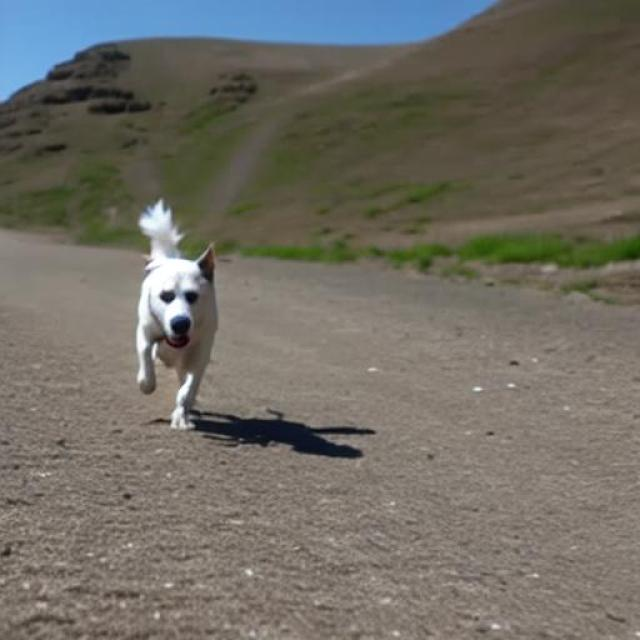Dog: (135, 200, 221, 431)
